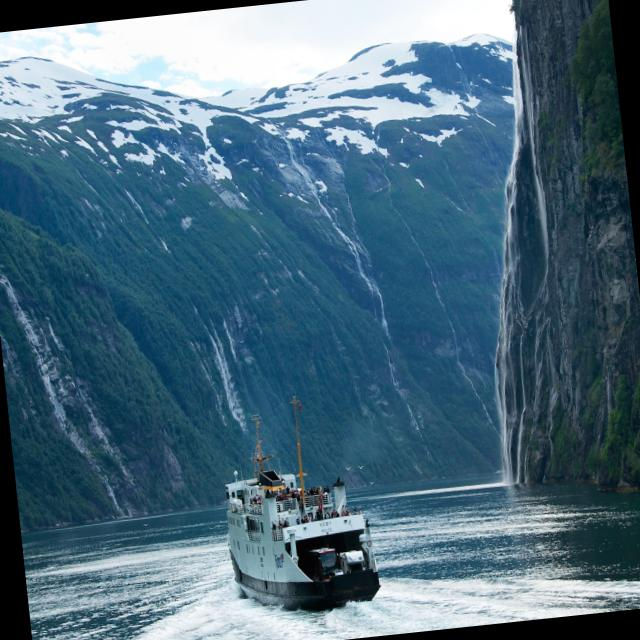boat: (190, 357, 396, 640)
